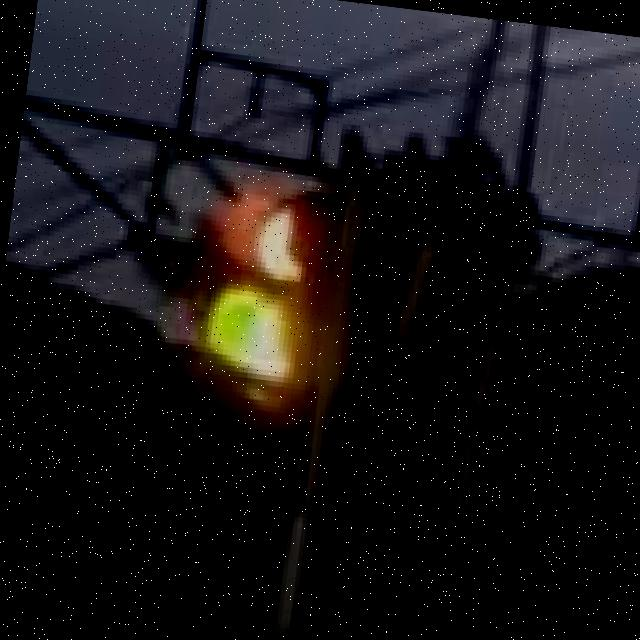Zolte swiatlo: (186, 185, 346, 513)
